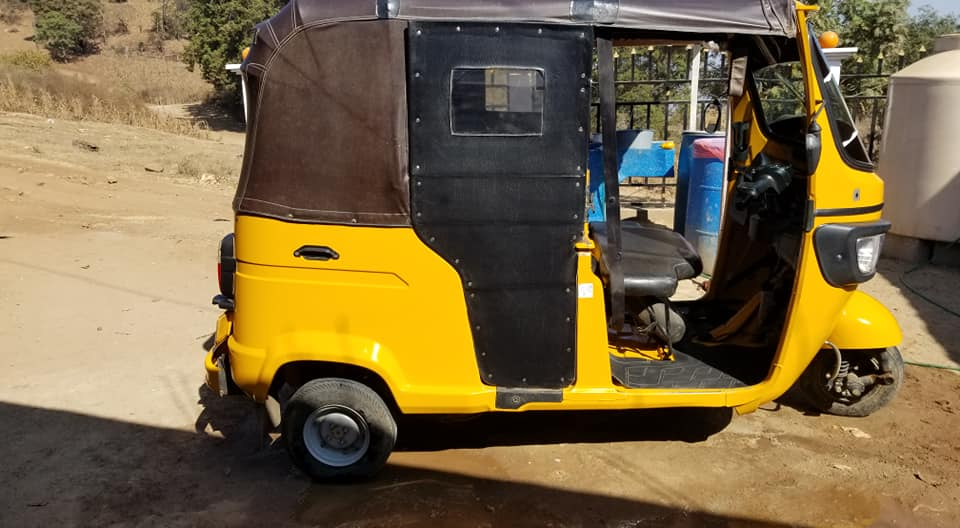mototaxi: (211, 2, 912, 480)
